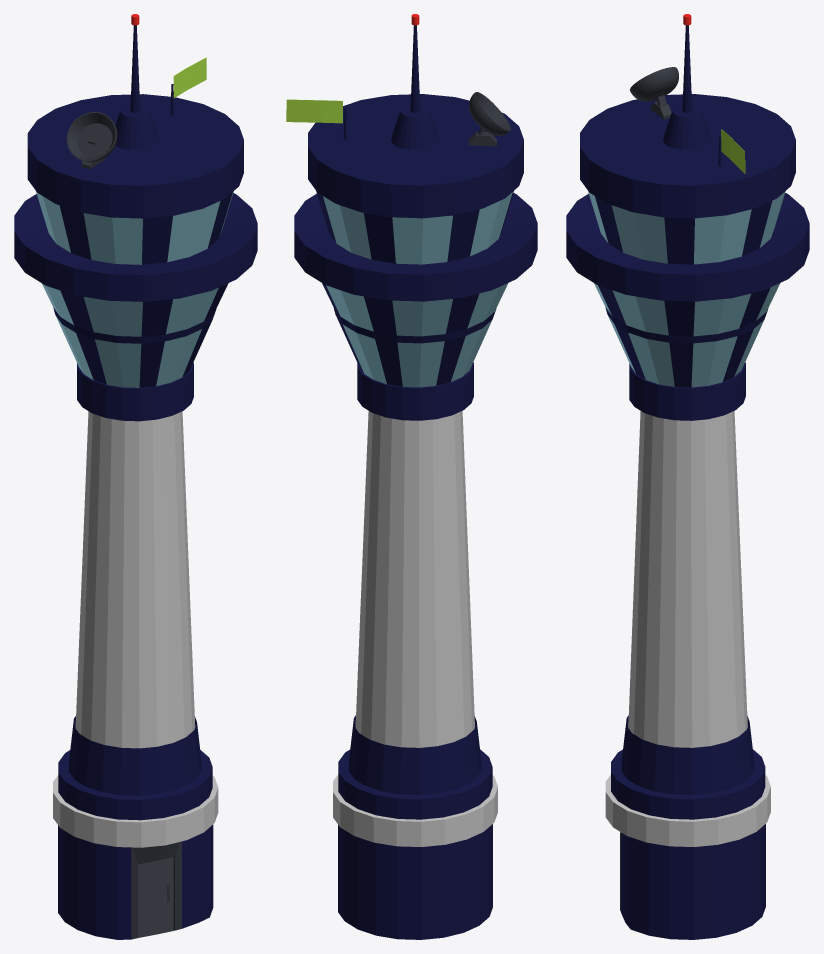
File: Building_ControlTower.fbx
3 renders of one model, left to right at view 1: azimuth 30°, elevation 25°; view 2: azimuth 150°, elevation 25°; view 3: azimuth 270°, elevation 25°, orthographic.
Parts seen in each view (by area): view 1: Cylinder; view 2: Cylinder; view 3: Cylinder.
Part boxes in pixels (bbox=[...]): Cylinder: bbox=[14, 14, 257, 939]; Cylinder: bbox=[286, 14, 537, 939]; Cylinder: bbox=[566, 14, 809, 939].
Size of the model in its own units: 630 by 2539 by 628.
